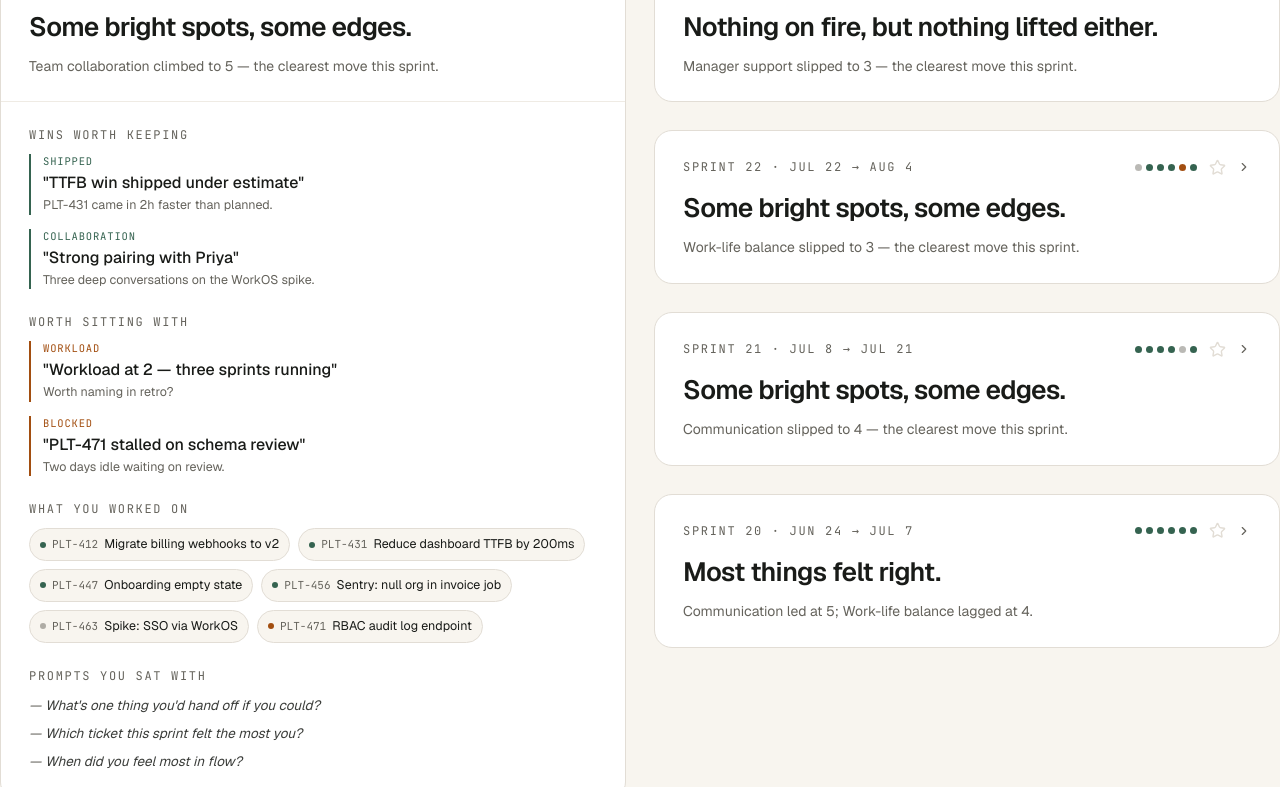
HistoryView › expands a collapsed entry when its header is clicked
The image size is (1280, 787).
(page scrolled)
Click the button "Most things felt right." at {"x": 714, "y": 531}, box [655,495,1279,647]
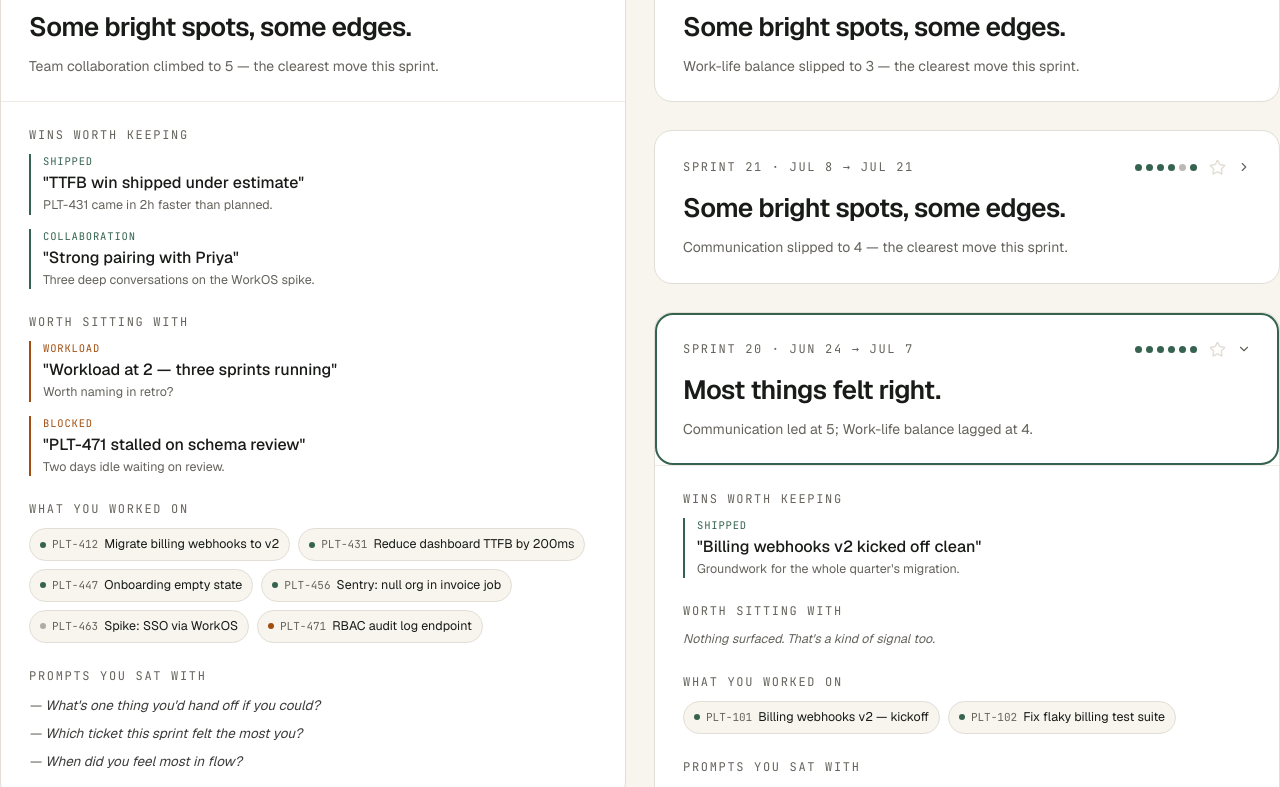
Expected: the text "\"Billing webhooks v2 kicked off clean\"" is shown, [697,536,981,557]
